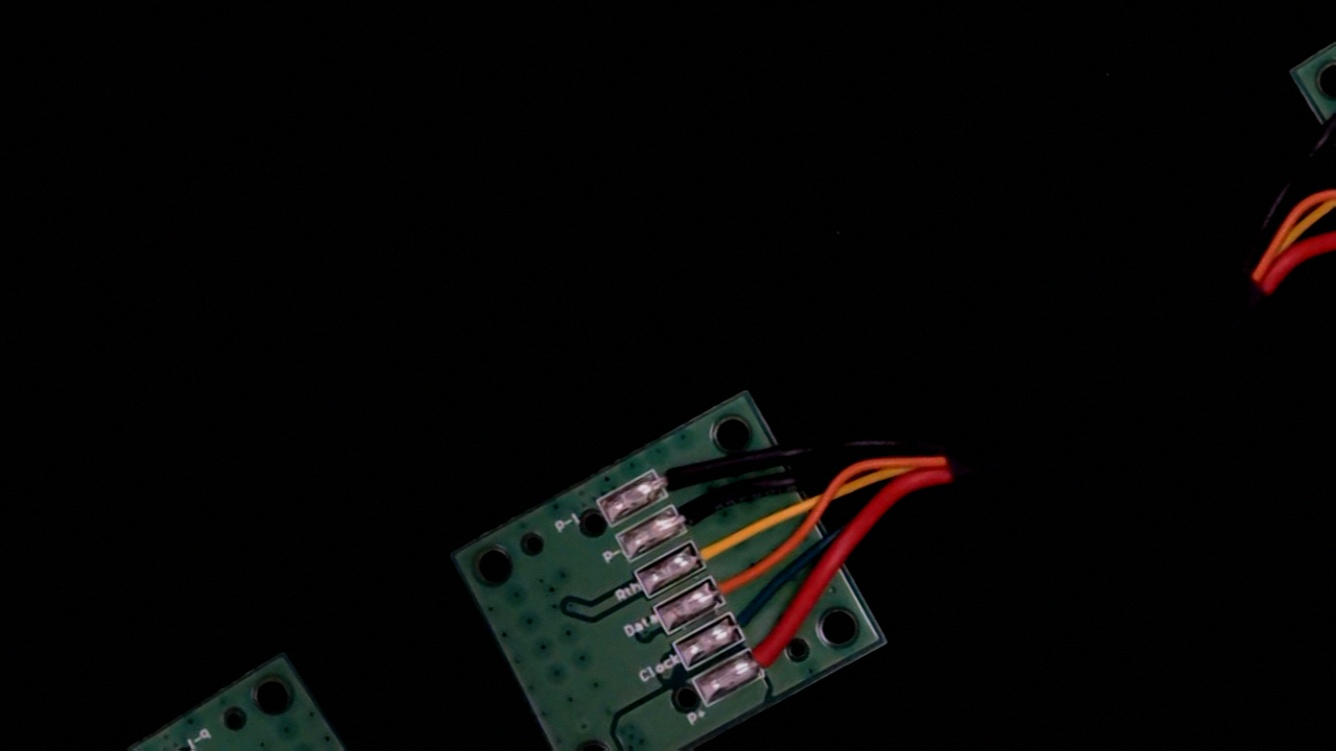Black: (655, 481, 730, 544)
Black1: (635, 443, 716, 511)
Green: (712, 588, 782, 650)
Orange: (697, 557, 768, 615)
Red: (734, 625, 802, 684)
Yellow: (674, 517, 748, 579)
